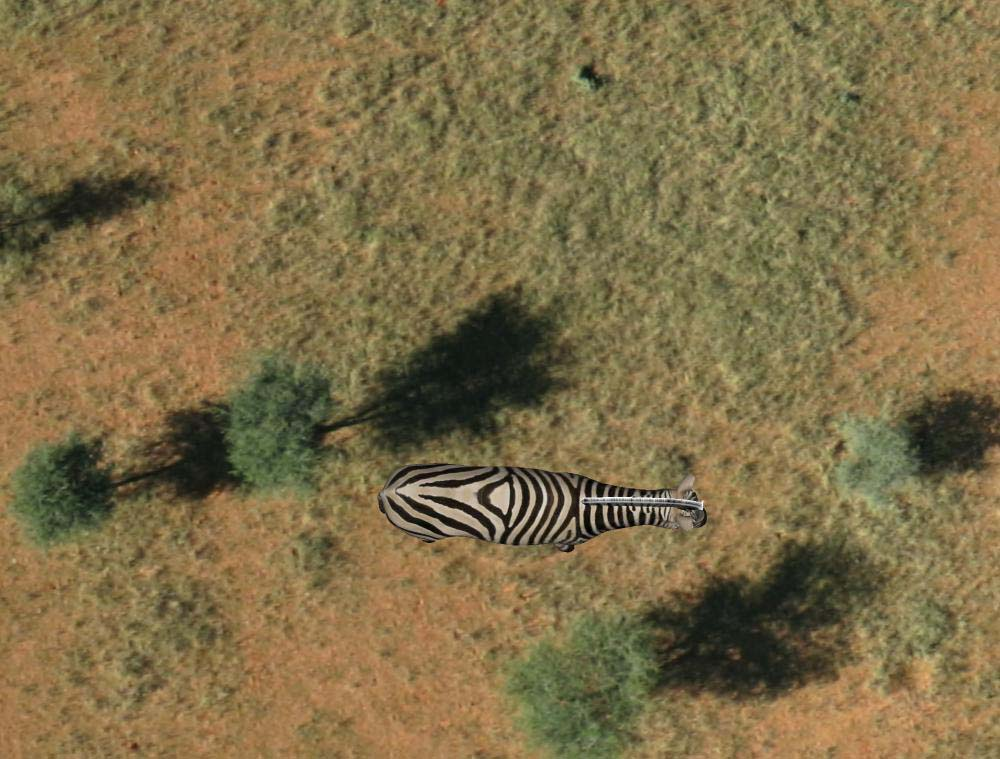zebra: (375, 459, 707, 551)
